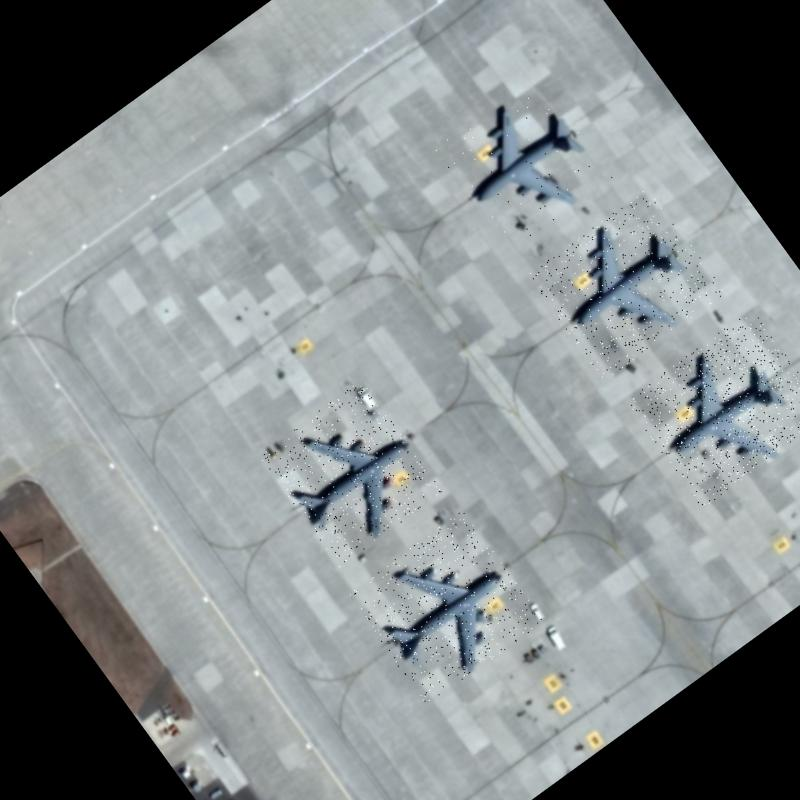A14: (346, 508, 544, 706), (526, 186, 726, 381), (624, 308, 800, 508), (258, 378, 442, 566), (431, 70, 614, 254)
